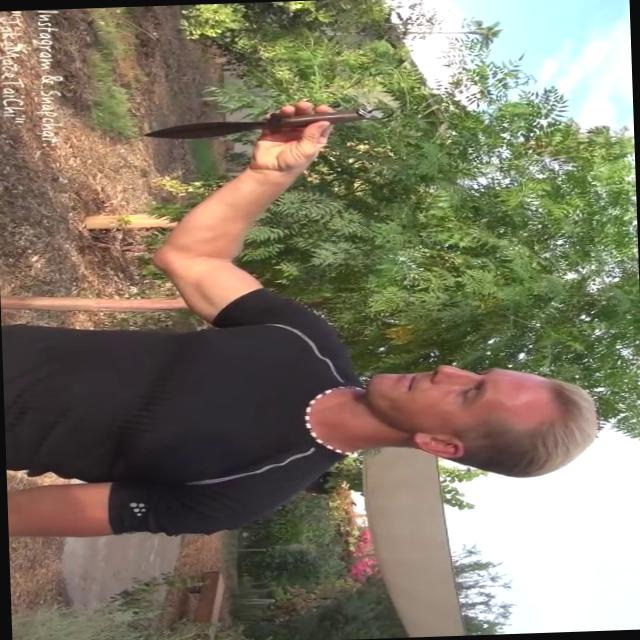knife: (142, 102, 398, 150)
